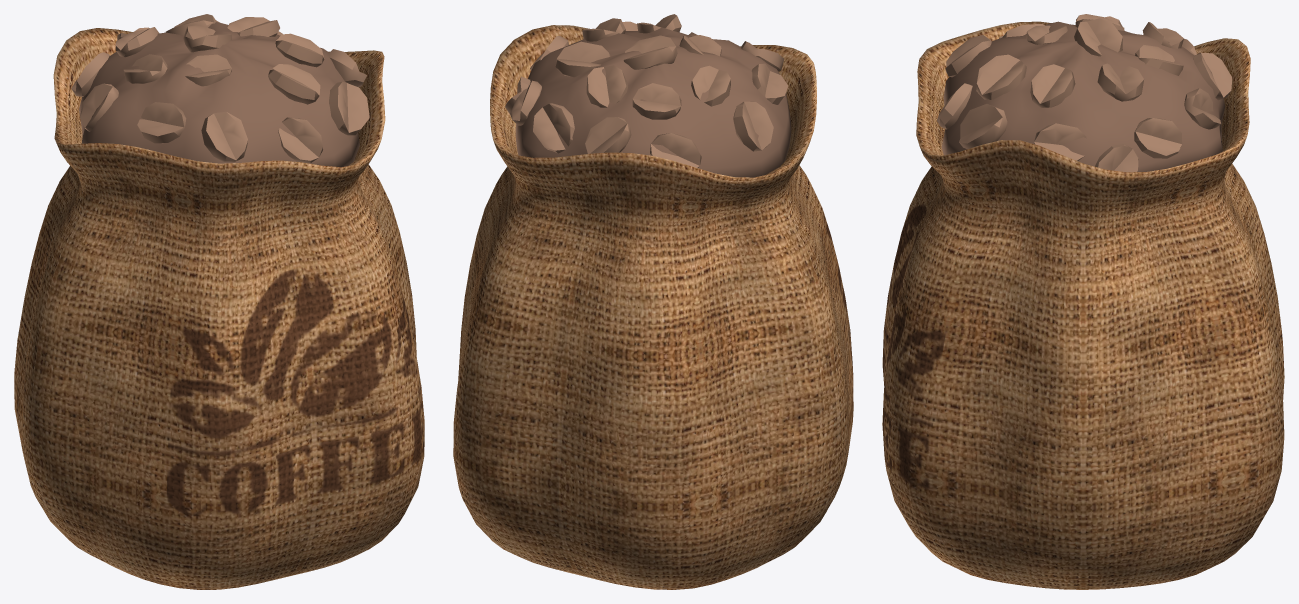
The model's file is bean_sack.fbx.
3 views of the same model, side by side, from view 1: azimuth 30°, elevation 25°; view 2: azimuth 150°, elevation 25°; view 3: azimuth 270°, elevation 25° (orthographic).
Visible parts, largest first — view 1: sack, bean_pile, bn_08, bn_02, bn_09, bn_05, bn_11, bn_04, bn_13, bn_15, bn_01, bn_12 (+4 smaller); view 2: sack, bean_pile, bn_07, bn_13, bn_03, bn_18, bn_17, bn_01, bn_06, bn_12, bn_14, bn_09 (+3 smaller); view 3: sack, bean_pile, bn_11, bn_02, bn_10, bn_04, bn_01, bn_06, bn_16, bn_17, bn_07, bn_08 (+5 smaller).
Part boxes in pixels (bbox=[...]): sack: bbox=[14, 28, 424, 589]; bean_pile: bbox=[79, 22, 359, 167]; bn_08: bbox=[201, 111, 247, 162]; bn_02: bbox=[329, 81, 369, 135]; bn_09: bbox=[137, 102, 186, 143]; bn_05: bbox=[278, 117, 322, 163]; bn_11: bbox=[268, 64, 320, 104]; bn_04: bbox=[275, 33, 324, 67]; bn_13: bbox=[80, 83, 118, 131]; bn_15: bbox=[185, 54, 231, 86]; bn_01: bbox=[183, 25, 231, 52]; bn_12: bbox=[123, 54, 167, 83]; sack: bbox=[453, 25, 853, 589]; bean_pile: bbox=[515, 27, 791, 177]; bn_07: bbox=[533, 103, 574, 153]; bn_13: bbox=[733, 101, 773, 151]; bn_03: bbox=[632, 83, 681, 119]; bn_18: bbox=[586, 65, 627, 107]; bn_17: bbox=[585, 117, 631, 153]; bn_01: bbox=[623, 35, 677, 69]; bn_06: bbox=[555, 41, 610, 77]; bn_12: bbox=[691, 65, 730, 106]; bn_14: bbox=[650, 133, 701, 168]; bn_09: bbox=[751, 63, 788, 104]; sack: bbox=[882, 21, 1284, 589]; bean_pile: bbox=[941, 21, 1225, 171]; bn_11: bbox=[976, 54, 1026, 99]; bn_02: bbox=[959, 104, 1007, 149]; bn_10: bbox=[1134, 118, 1182, 158]; bn_04: bbox=[1030, 64, 1075, 107]; bn_01: bbox=[1074, 18, 1122, 56]; bn_06: bbox=[1097, 63, 1143, 101]; bn_16: bbox=[1034, 123, 1086, 161]; bn_17: bbox=[1193, 52, 1232, 100]; bn_07: bbox=[1184, 88, 1220, 129]; bn_08: bbox=[945, 35, 991, 77].
Bounding box in the file's own units: 120 × 152 × 110.
3 materials, 1 textured.
